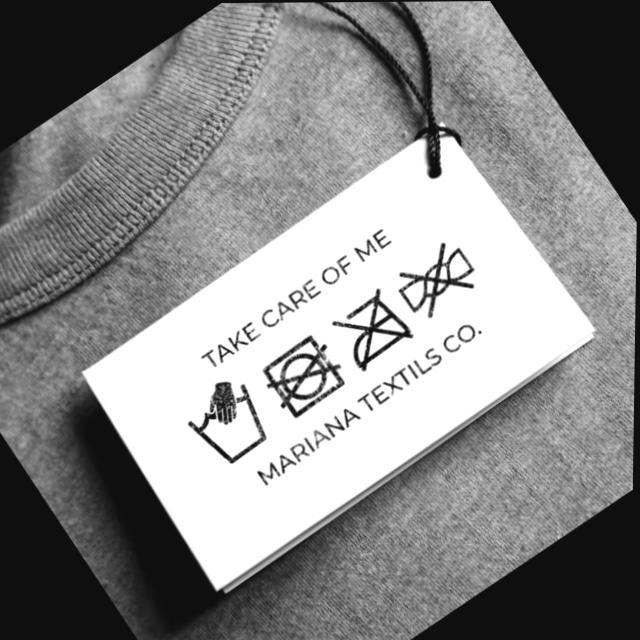DN_iron: (336, 290, 409, 369)
DN_tumble_dry: (261, 335, 340, 413)
DN_wring: (398, 241, 476, 314)
hand_wash: (187, 379, 267, 469)
